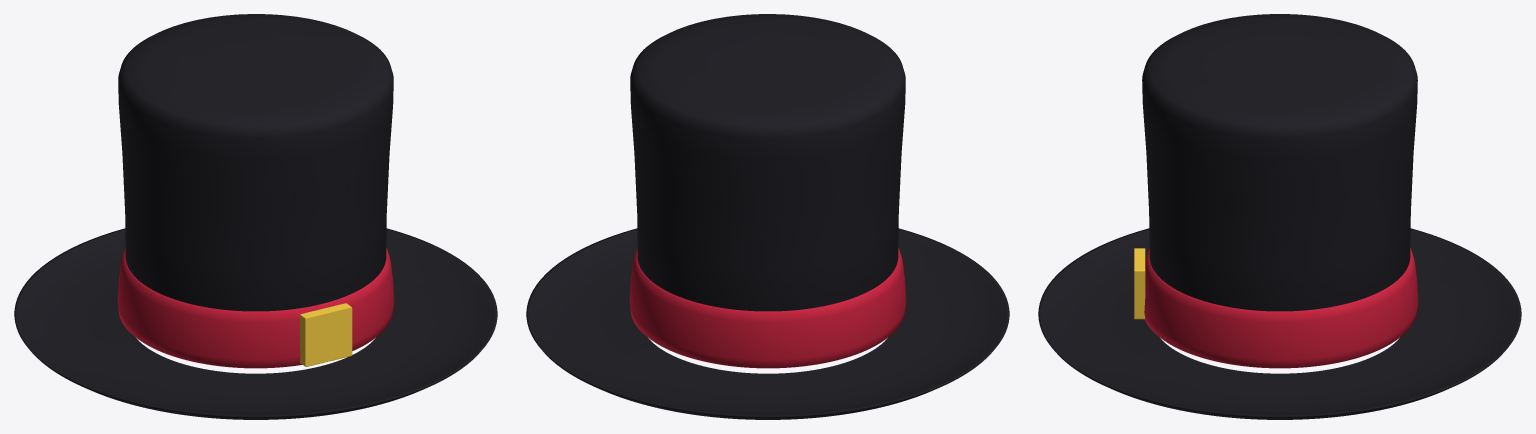
The model's file is copa.glb.
3 views of the same model, side by side, from view 1: azimuth 30°, elevation 25°; view 2: azimuth 150°, elevation 25°; view 3: azimuth 270°, elevation 25° (orthographic).
Visible parts, largest first — view 1: copa; view 2: copa; view 3: copa.
Boxes of the visible parts, x1=… form: copa: x1=14, y1=14, x2=497, y2=419; copa: x1=526, y1=14, x2=1009, y2=419; copa: x1=1038, y1=14, x2=1521, y2=419.
Size of the model in its own units: 1.52 by 0.9217 by 1.52.
